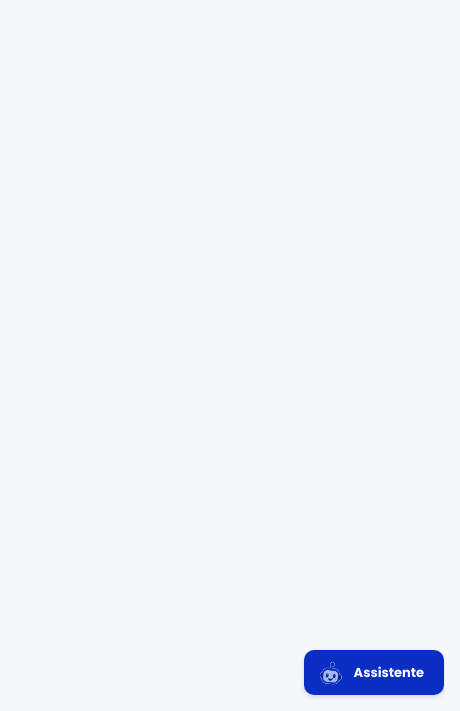
Test: contrato do chat integrado › destaca a média anual e mostra cada média semestral uma vez
Click the button "Assistente" at [374, 672], box left=304, top=650, right=444, bottom=695
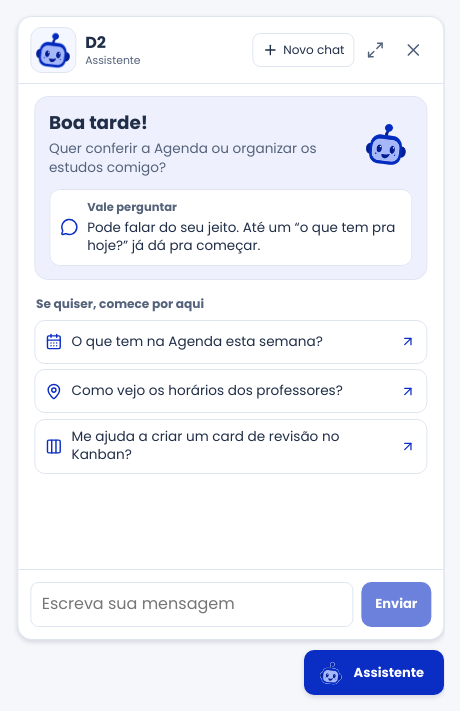
Type "Como estou em Banco de Dados?" into the text box labelled "sua mensagem" at [192, 604], box left=30, top=582, right=354, bottom=627
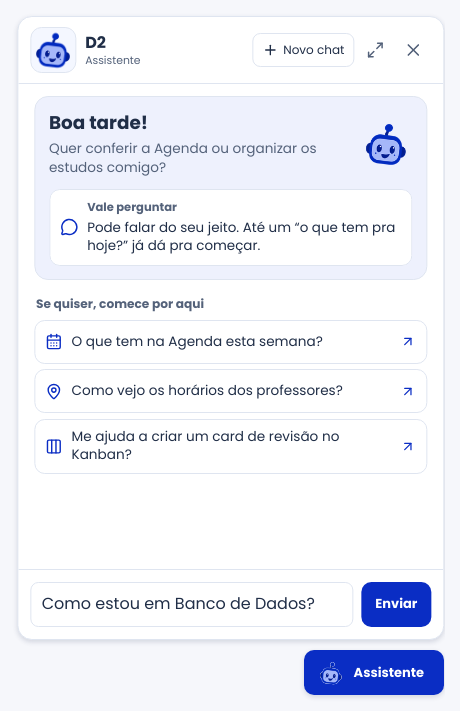
Click the button "Enviar" at [396, 604], box left=362, top=582, right=431, bottom=627
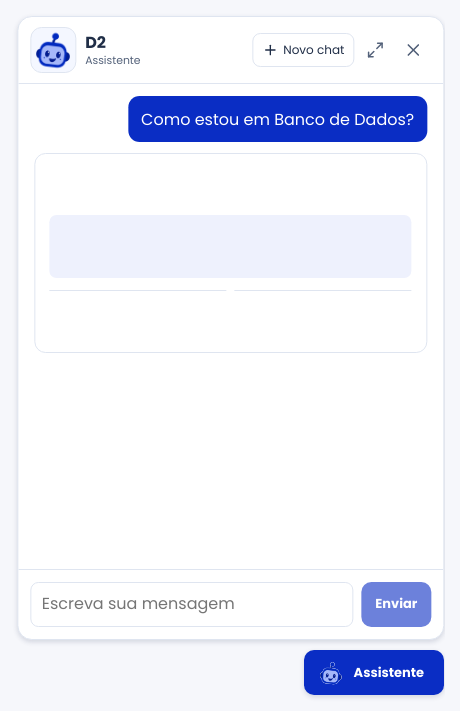
Click the button named "Fechar assistente" at [414, 50], box left=397, top=33, right=431, bottom=67
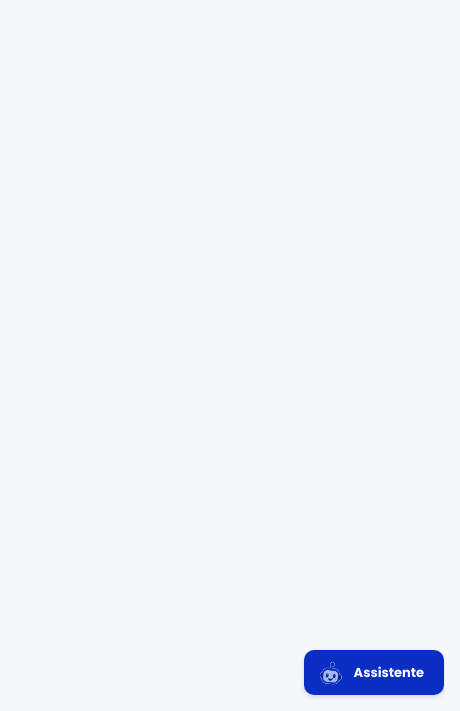
Click the button "Assistente" at [374, 672], box left=304, top=650, right=444, bottom=695
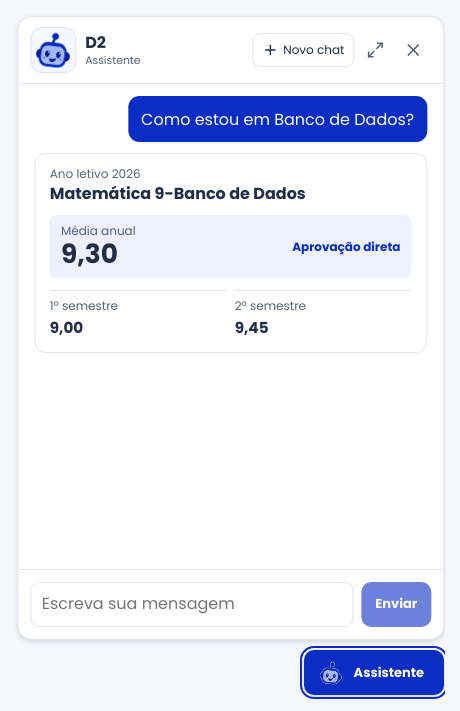
Expected: the element named "Notas de Matemática 9-Banco de Dados, 2026" does not have attribute data-entering, left=34, top=153, right=427, bottom=353
